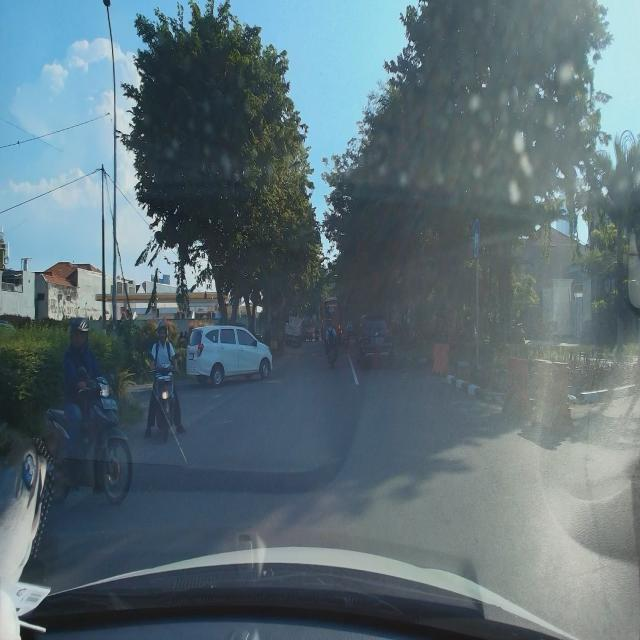car: (355, 309, 397, 372)
